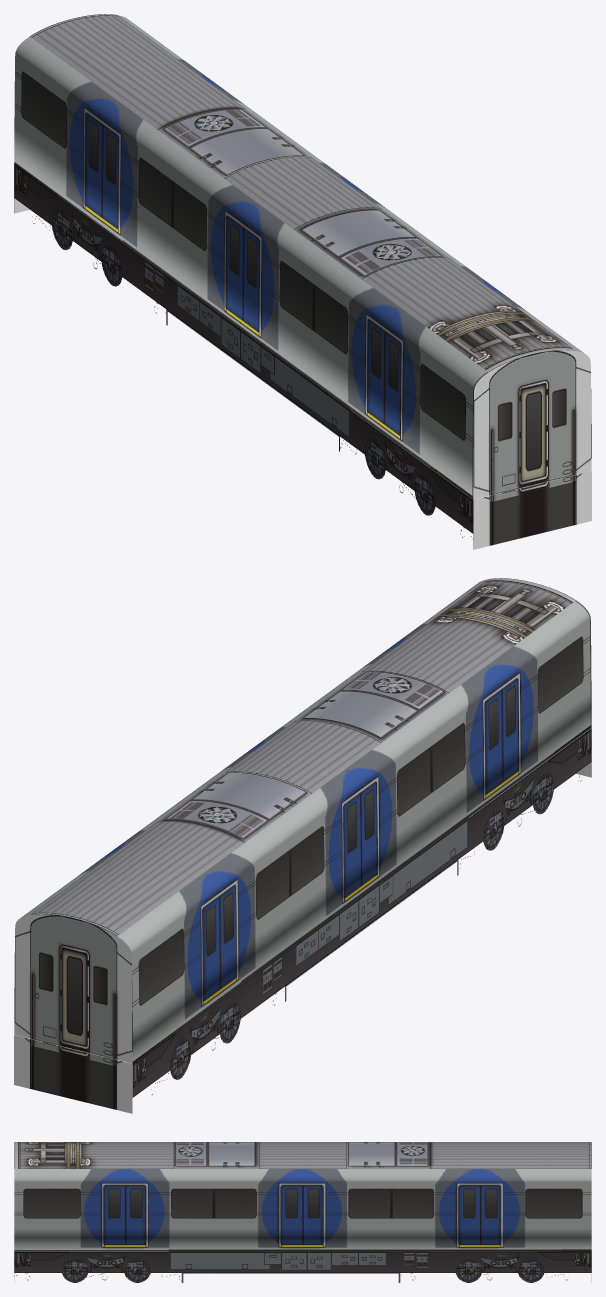
Rendered from car3.glb.
3 renders of one model, top to bottom at view 1: azimuth 30°, elevation 25°; view 2: azimuth 150°, elevation 25°; view 3: azimuth 270°, elevation 25°, orthographic. The views are drawn at different scales.
Parts seen in each view (by area): view 1: hansin-5700-car3; view 2: hansin-5700-car3; view 3: hansin-5700-car3.
Boxes of the visible parts, x1,y1,x2,y2 form: hansin-5700-car3: (14,14,591,549); hansin-5700-car3: (14,578,591,1113); hansin-5700-car3: (14,1142,591,1282).
Size of the model in its own units: 2.8 by 4.09 by 18.83.
Materials: 9 (8 with a texture image).
